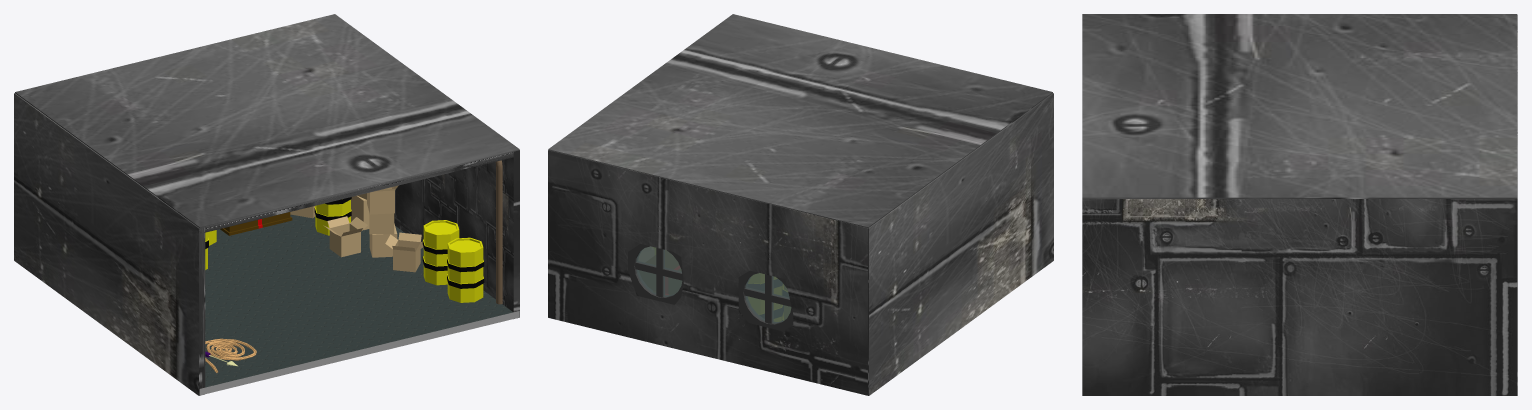
Rendered from PipeRoom.fbx.
3 views of the same model, side by side, from view 1: azimuth 30°, elevation 25°; view 2: azimuth 150°, elevation 25°; view 3: azimuth 270°, elevation 25° (orthographic). The views are drawn at different scales.
Visible parts, largest first — view 1: Ceiling, Wall2, Floor, Wall1, Barrel10, Barrel1, Box3, Box2, Box4, Pipe2, Barrel11, Rope2 (+2 smaller); view 2: Ceiling, Wall, Wall2, Window4; view 3: Wall1, Ceiling, Wall.
Boxes of the visible parts, <box> form: Ceiling: <box>15,14,519,232</box>; Wall2: <box>14,93,205,395</box>; Floor: <box>199,214,519,395</box>; Wall1: <box>394,150,519,318</box>; Barrel10: <box>447,237,484,302</box>; Barrel1: <box>422,220,459,285</box>; Box3: <box>367,185,398,257</box>; Box2: <box>323,216,367,257</box>; Box4: <box>385,232,423,272</box>; Pipe2: <box>495,160,502,304</box>; Barrel11: <box>314,197,351,235</box>; Rope2: <box>205,338,256,372</box>; Ceiling: <box>548,14,1052,227</box>; Wall: <box>548,150,868,395</box>; Wall2: <box>868,93,1053,395</box>; Window4: <box>628,244,793,331</box>; Wall1: <box>1082,199,1517,395</box>; Ceiling: <box>1082,14,1517,198</box>; Wall: <box>1517,15,1517,395</box>.
Bounding box in the file's own units: 100 × 50.29 × 100.
Materials: 20 (2 with a texture image).
